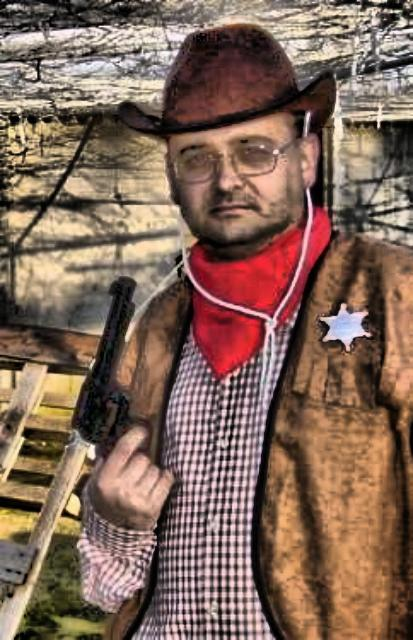pistol: (68, 272, 154, 458)
